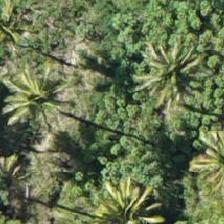coconut_tree: (46, 128, 136, 218), (124, 27, 214, 117), (0, 22, 89, 112), (82, 165, 172, 223)
